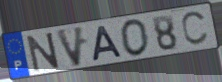8: (152, 14, 179, 52)
A: (92, 24, 125, 63)
C: (180, 9, 211, 47)
N: (25, 30, 62, 73)
O: (119, 17, 151, 58)
V: (53, 24, 86, 69)
